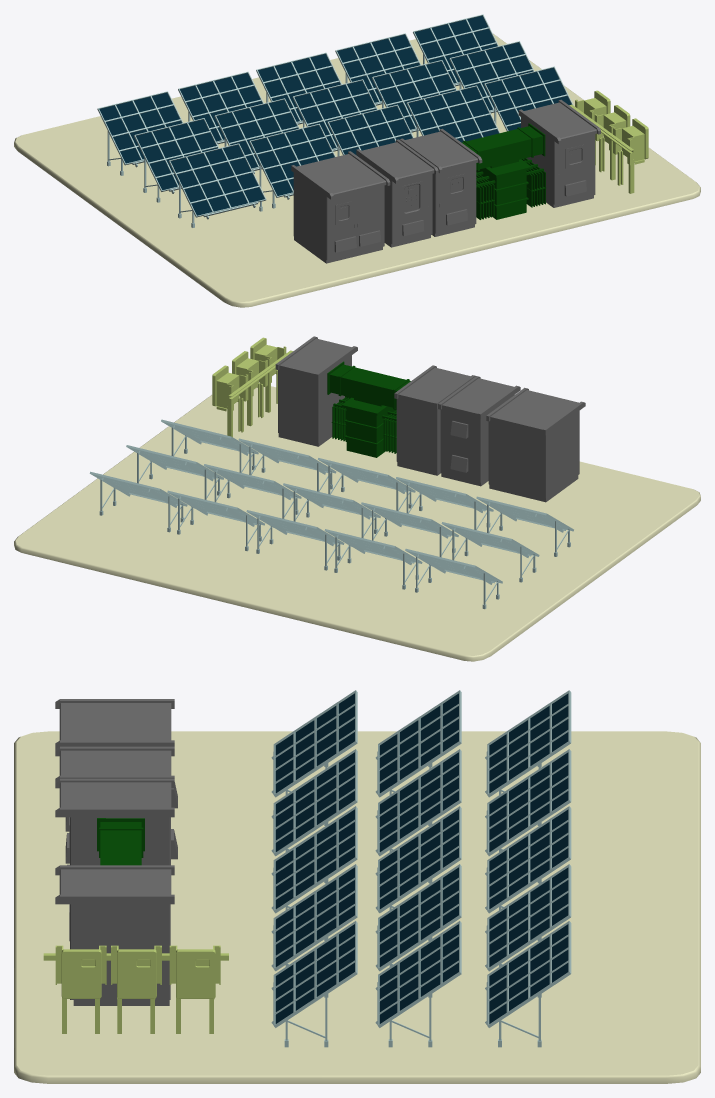
File: Area_C.fbx
The picture shows the model from 3 angles, top to bottom: view 1: azimuth 30°, elevation 25°; view 2: azimuth 150°, elevation 25°; view 3: azimuth 270°, elevation 25°; orthographic projection. The views are drawn at different scales.
Visible parts, largest first — view 1: Area_C; view 2: Area_C; view 3: Area_C.
Part boxes in pixels (left/top/right/bottom): Area_C: left=14, top=14, right=700, bottom=307; Area_C: left=14, top=336, right=700, bottom=661; Area_C: left=14, top=690, right=700, bottom=1083.
Bounding box in the file's own units: 67.07 × 11.65 × 56.25.
